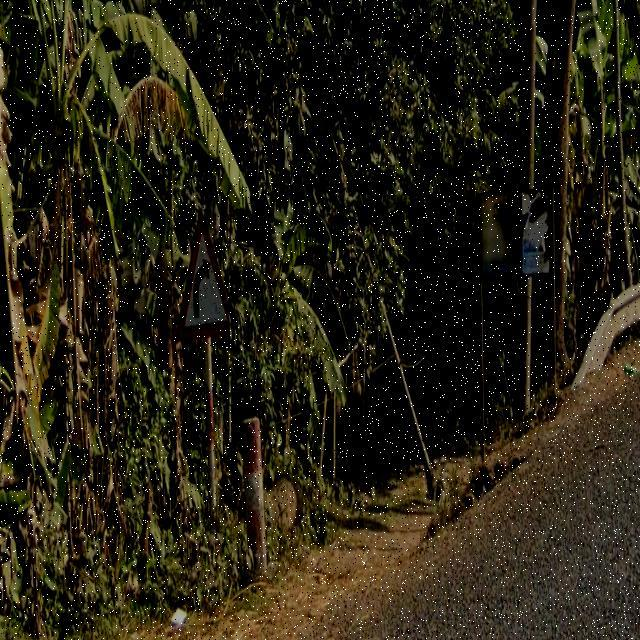Right-turn: (167, 204, 246, 345)
